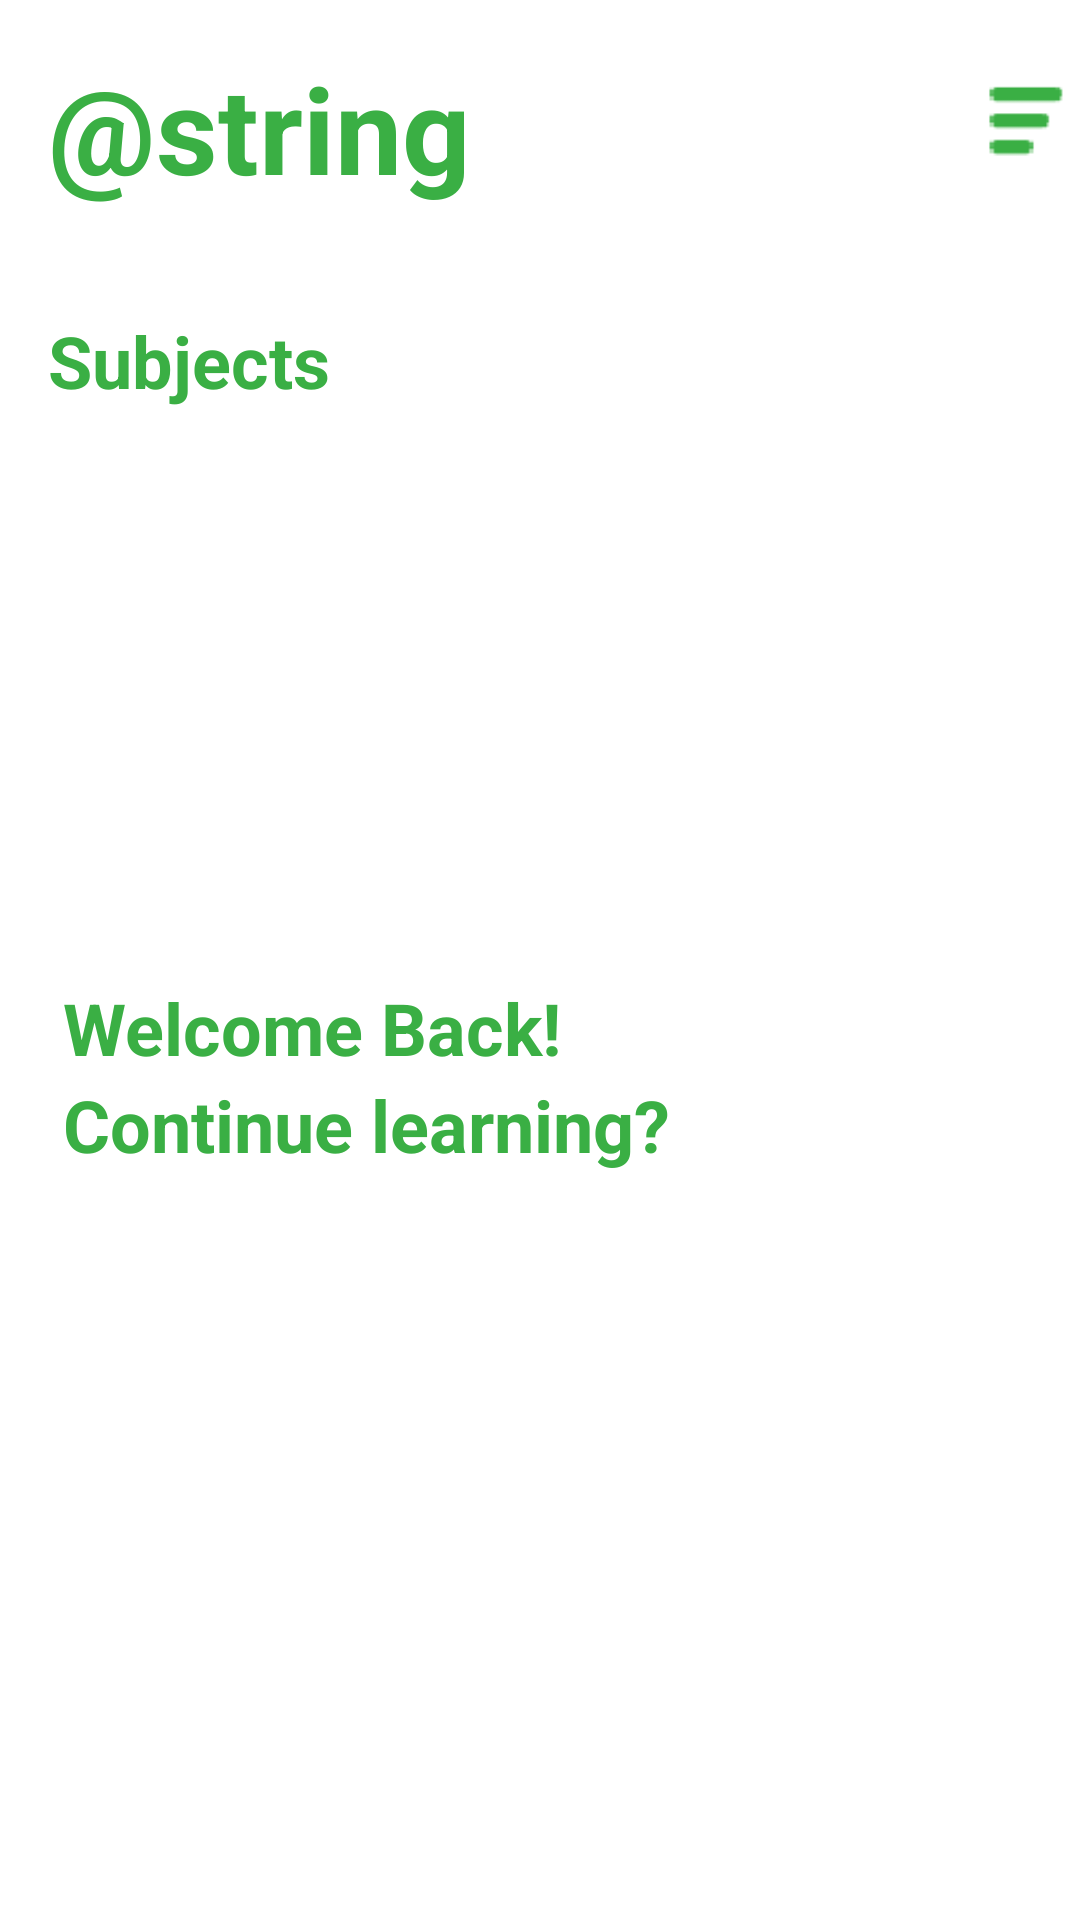

Screen size 1080w x 1920h. Icon name, then its box in pixels as {"x1": x1, "y1": y1, "x2": x2, "y2": y2}:
burger: {"x1": 989, "y1": 87, "x2": 1063, "y2": 156}
